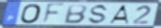2: (132, 5, 153, 25)
A: (107, 4, 130, 25)
B: (63, 4, 89, 24)
F: (40, 3, 66, 26)
O: (20, 3, 43, 25)
S: (87, 4, 110, 25)
